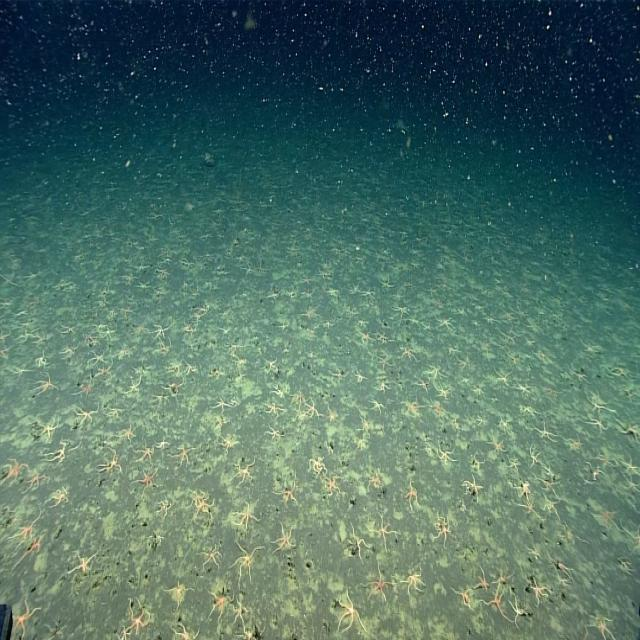brittle-stars: (336, 588, 362, 633), (14, 595, 42, 636), (12, 511, 42, 542), (234, 542, 257, 582), (365, 565, 391, 598), (20, 535, 44, 570), (128, 596, 150, 632), (210, 582, 230, 620), (2, 456, 24, 488), (273, 522, 296, 552), (70, 550, 97, 575), (589, 613, 614, 640), (594, 506, 618, 534), (374, 515, 394, 545), (236, 502, 258, 529), (100, 448, 122, 474), (483, 589, 505, 615), (138, 467, 158, 495), (404, 568, 423, 596), (433, 515, 452, 543), (75, 404, 98, 426), (235, 458, 254, 484), (203, 542, 220, 571), (37, 371, 58, 394), (174, 445, 194, 469), (351, 529, 367, 559), (510, 592, 524, 626), (28, 469, 49, 491), (589, 393, 609, 416), (308, 454, 327, 478), (279, 482, 297, 507), (324, 472, 342, 497), (406, 482, 420, 512), (618, 456, 639, 476), (538, 474, 558, 495), (49, 442, 68, 464), (41, 418, 59, 441), (231, 600, 248, 624), (464, 475, 480, 500), (437, 443, 455, 465), (531, 578, 548, 601), (588, 413, 608, 432), (176, 623, 198, 640), (95, 361, 114, 380), (139, 438, 154, 462), (52, 485, 68, 507), (197, 498, 215, 517), (455, 587, 473, 606), (542, 496, 559, 516), (78, 376, 95, 395), (368, 468, 382, 491), (624, 474, 640, 494), (476, 568, 490, 590), (88, 350, 105, 368), (59, 324, 78, 340), (542, 384, 559, 401), (536, 424, 554, 440), (520, 498, 536, 516), (572, 366, 588, 384), (292, 387, 306, 407), (359, 415, 372, 436), (515, 379, 531, 396), (62, 343, 78, 360), (214, 397, 232, 412), (566, 435, 581, 453), (494, 370, 512, 385), (404, 398, 419, 416), (158, 495, 172, 514), (129, 374, 142, 394), (220, 432, 233, 452), (156, 338, 172, 354), (489, 436, 504, 453), (436, 316, 453, 331), (307, 396, 318, 419), (267, 422, 281, 440), (190, 487, 203, 506), (123, 424, 136, 443), (369, 398, 384, 414), (326, 402, 336, 426), (501, 332, 516, 348), (100, 326, 116, 341), (428, 362, 442, 379), (430, 402, 444, 419), (116, 343, 130, 360), (527, 541, 540, 559), (507, 455, 520, 473), (266, 402, 282, 416), (435, 382, 449, 398), (400, 348, 416, 362), (169, 359, 183, 375), (502, 308, 516, 324), (529, 446, 540, 466), (470, 454, 482, 472), (36, 350, 48, 368), (108, 405, 123, 419), (184, 360, 197, 376), (499, 416, 512, 432), (155, 321, 167, 338), (266, 356, 278, 373), (348, 281, 362, 295), (156, 266, 170, 280), (157, 434, 170, 449), (377, 355, 390, 370), (226, 341, 242, 353), (379, 275, 392, 289), (354, 370, 366, 385), (300, 307, 315, 319), (136, 280, 150, 292), (378, 379, 389, 394), (136, 259, 148, 272), (476, 414, 487, 428), (360, 330, 372, 342), (427, 286, 439, 298), (300, 273, 312, 285), (347, 304, 357, 318), (377, 331, 387, 345), (256, 260, 265, 275), (327, 286, 339, 297), (393, 305, 406, 315), (362, 288, 374, 298), (244, 263, 252, 275)
